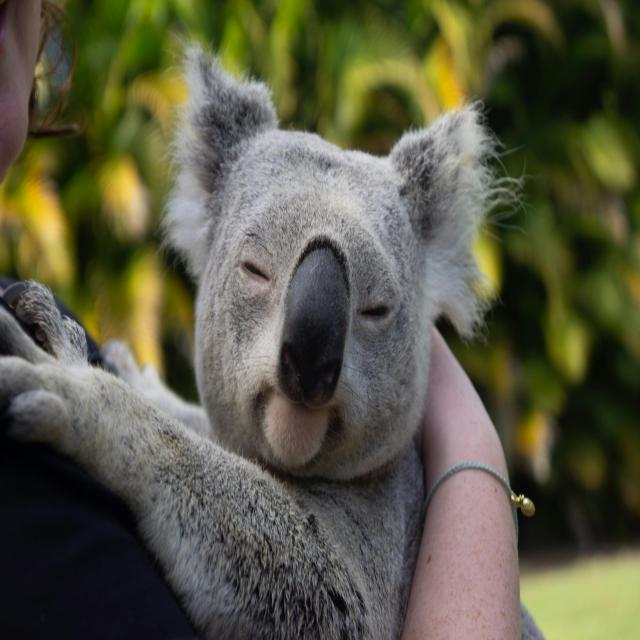Koala: (0, 65, 494, 640)
